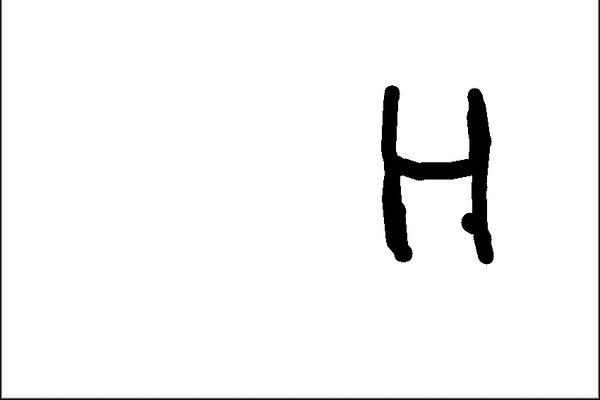H: (369, 74, 506, 269)
